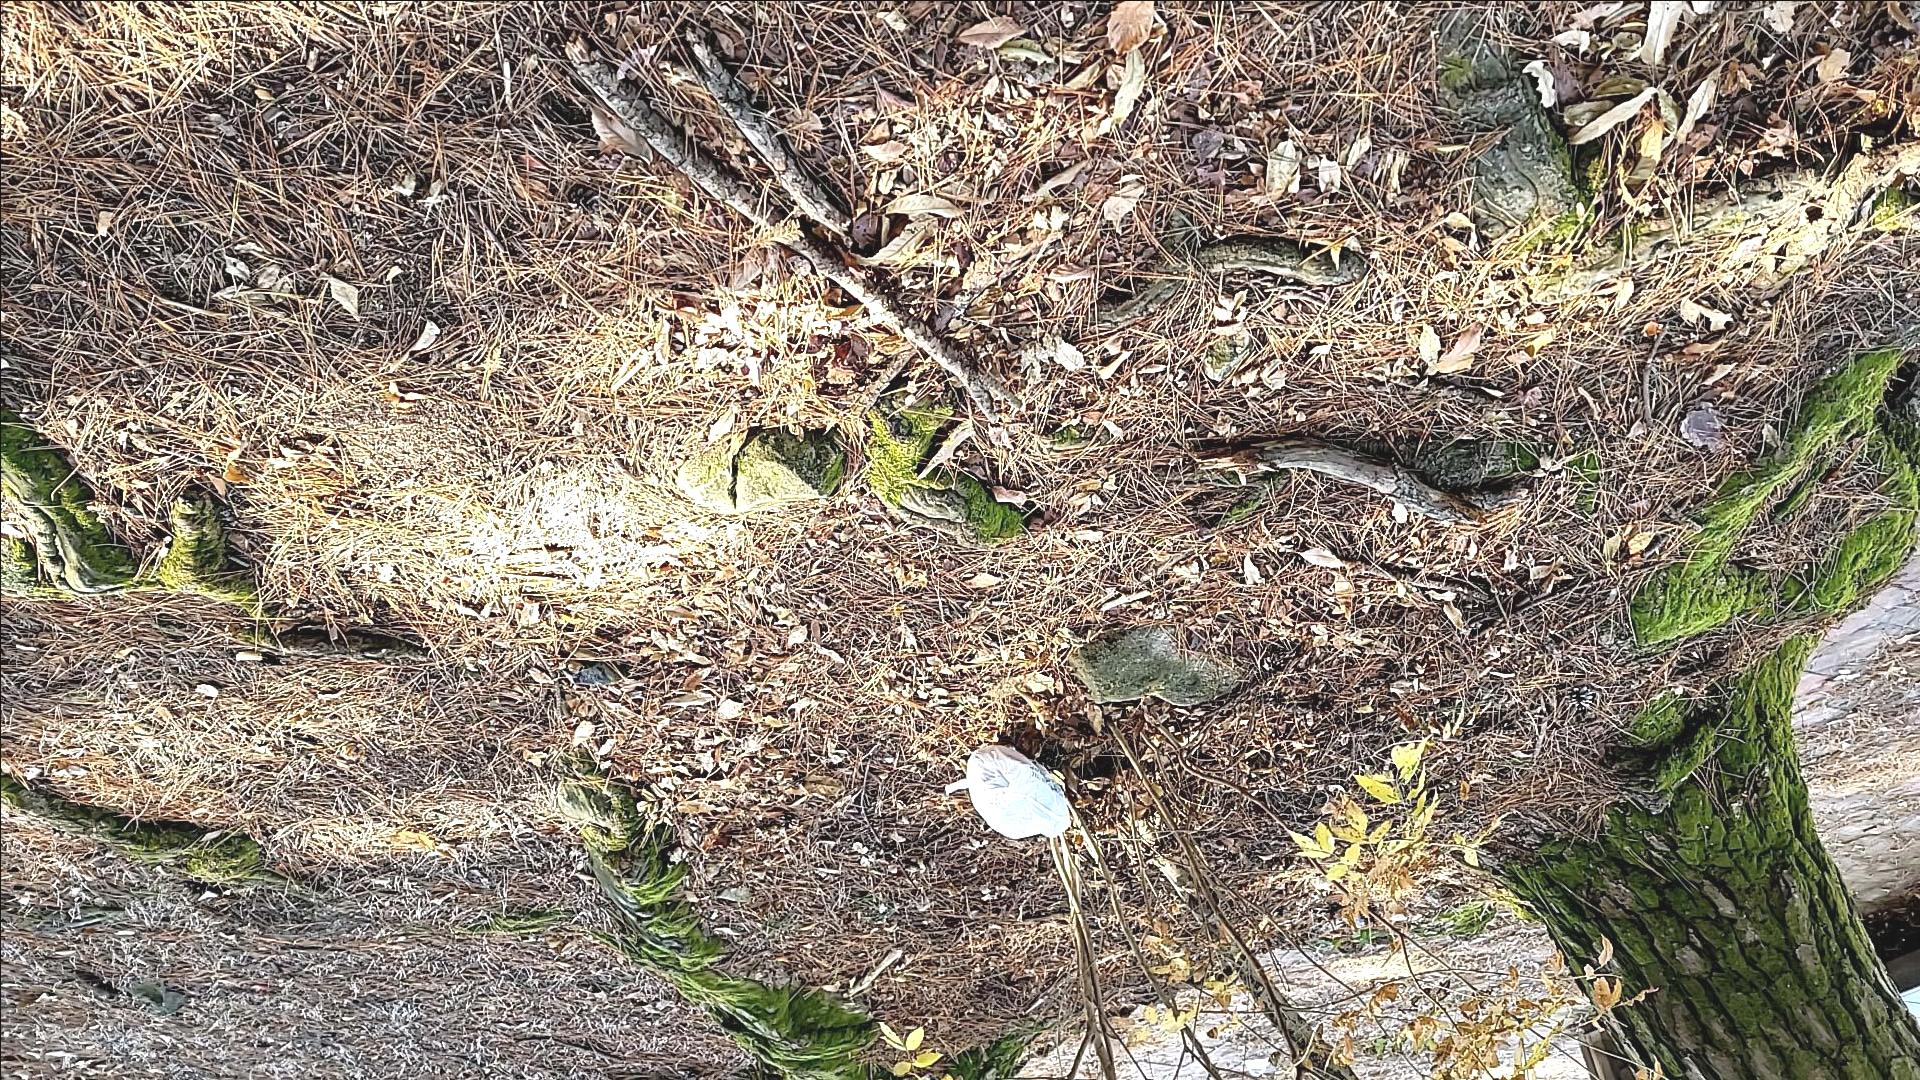white_bag: (955, 731, 1095, 851)
